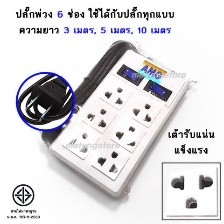three_eye_plug: (47, 46, 193, 201), (161, 163, 220, 219)
